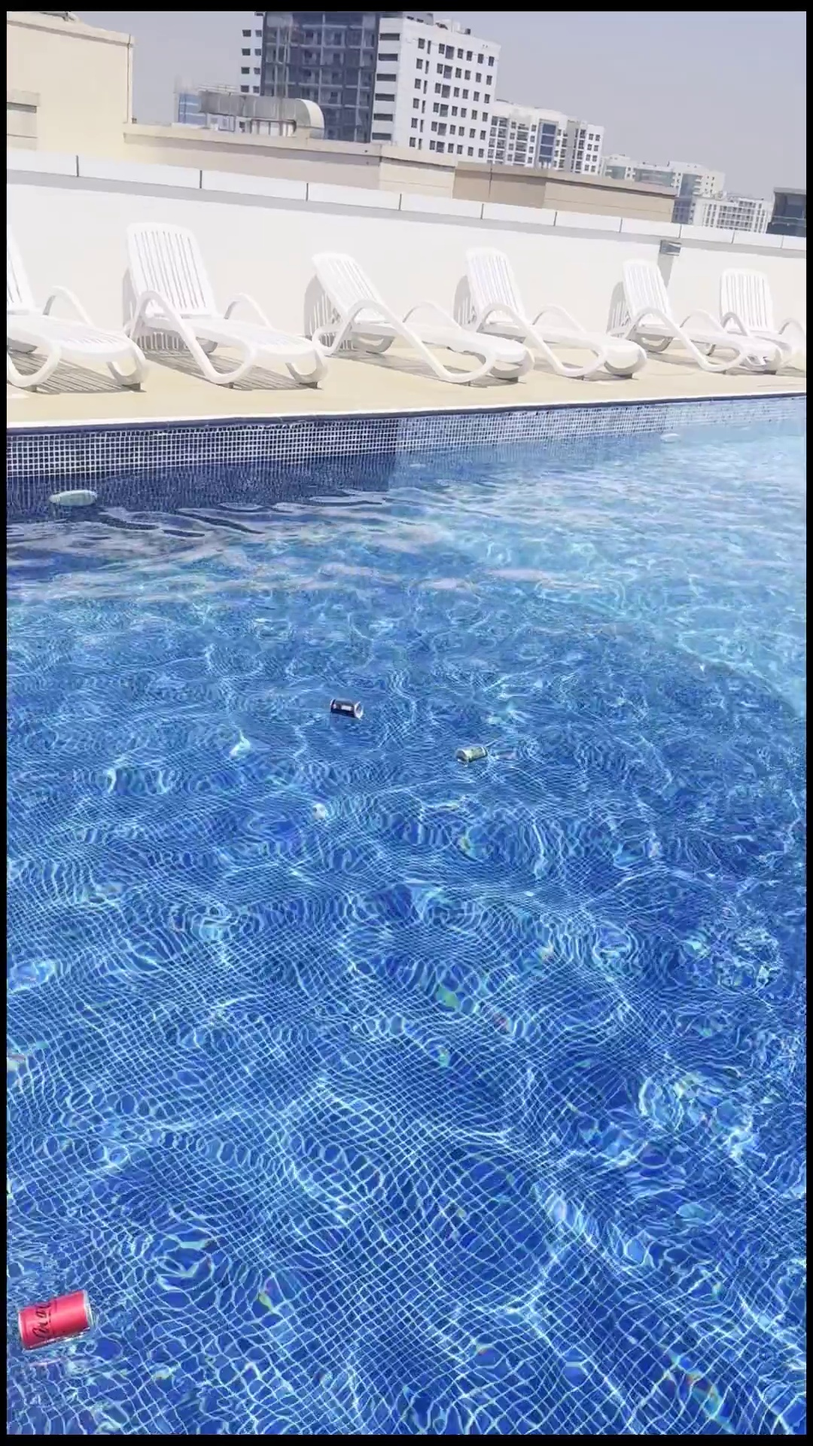debris: (12, 1259, 97, 1374), (452, 718, 486, 779), (325, 687, 361, 725)
